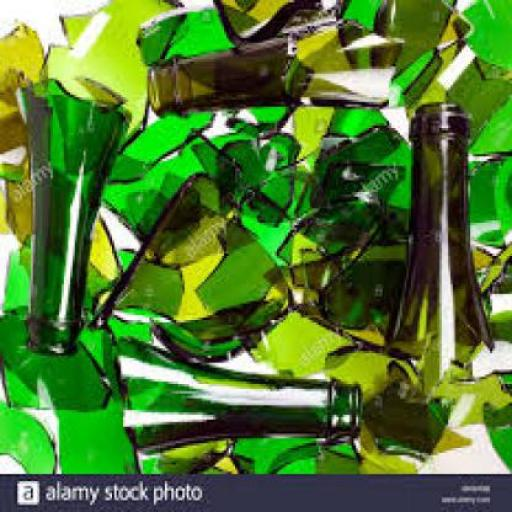glass: (88, 170, 290, 362), (8, 66, 126, 356), (235, 118, 406, 302), (108, 332, 356, 448), (146, 12, 402, 116), (385, 102, 488, 351), (8, 304, 136, 470), (2, 240, 126, 410), (37, 0, 184, 130), (277, 196, 411, 334), (320, 338, 464, 458), (0, 151, 114, 281), (99, 129, 231, 232), (267, 221, 382, 334), (0, 303, 111, 406), (184, 120, 296, 206), (108, 99, 222, 173), (358, 370, 451, 460), (103, 301, 229, 362), (292, 279, 404, 346), (370, 0, 456, 81), (440, 56, 510, 152), (393, 14, 466, 102), (134, 2, 230, 66), (213, 0, 345, 46), (0, 19, 44, 152), (464, 142, 510, 240), (224, 434, 352, 467), (0, 398, 53, 470), (435, 377, 503, 429), (459, 0, 510, 69), (138, 438, 228, 470), (481, 370, 510, 464), (354, 432, 418, 470), (290, 100, 332, 156), (320, 102, 384, 138), (426, 422, 480, 456), (481, 237, 510, 293), (483, 301, 510, 339), (411, 78, 439, 114), (472, 240, 494, 272)
